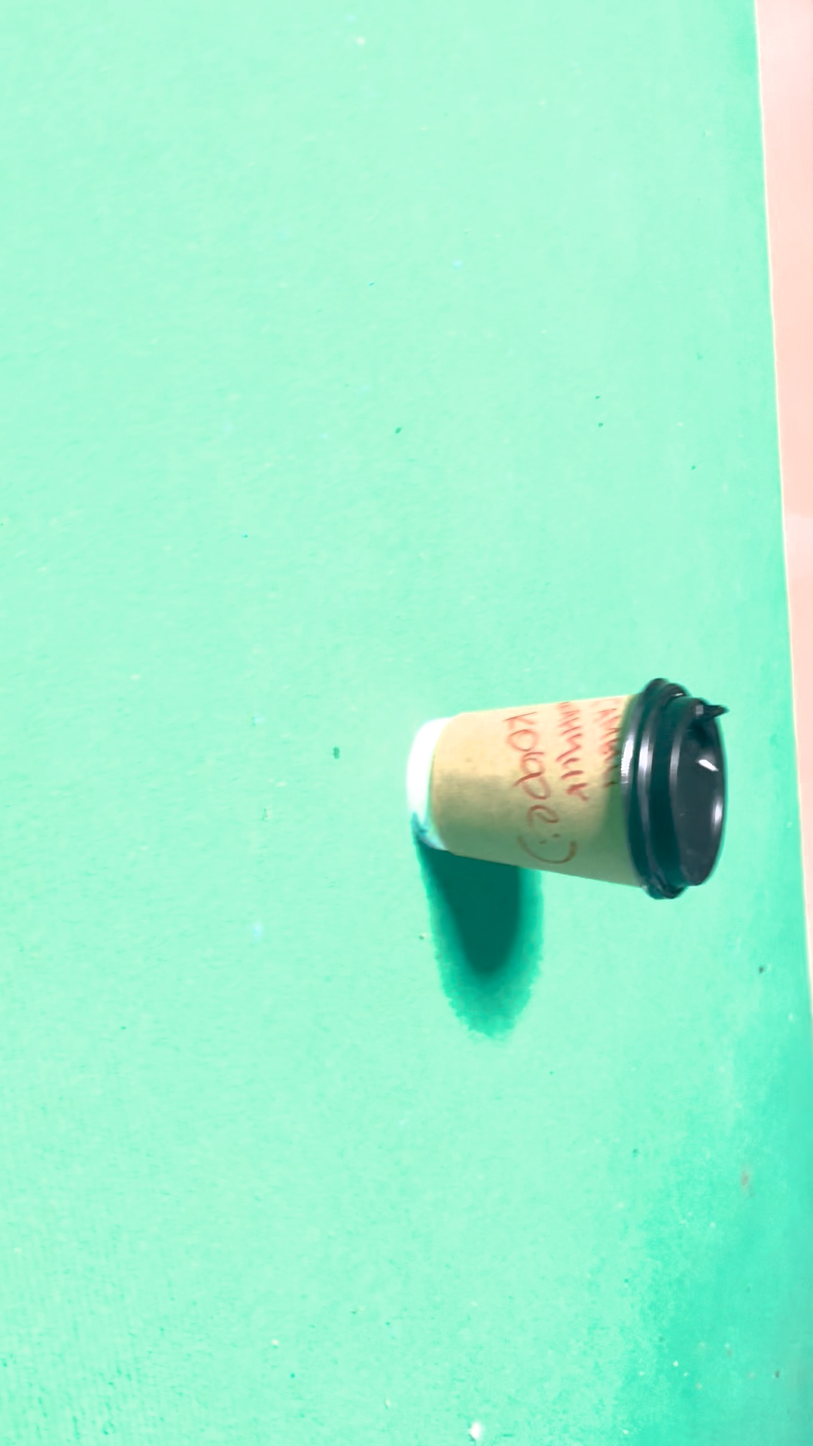cup: (409, 372, 495, 790)
